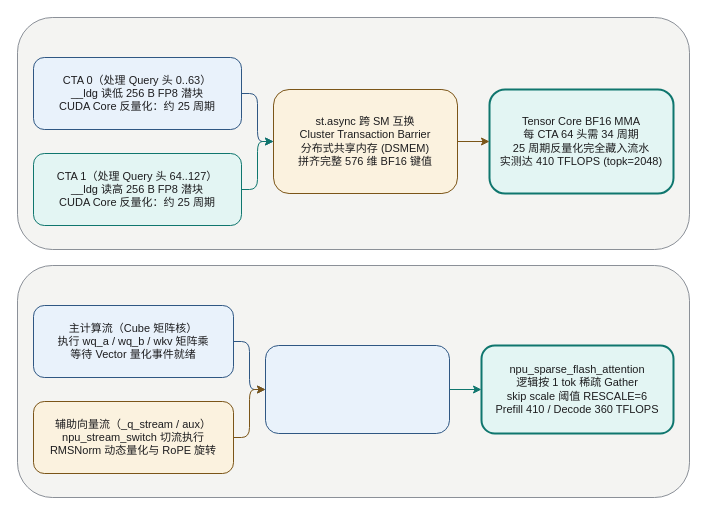
The diagram is 707 pixels wide and 515 high, and some of its shapes have lost their labels. The box of each missing label's shape, as (x1, y1, x2, y2) in pixels:
npu_lightning_indexer 物理分页按 128 对齐 Cube SFA/DSA 选出 Top-k 下标: (264, 344, 450, 434)
NVIDIA Hopper：2-CTA Cluster Crossover 打破 FP8 反量化瓶颈（250 → 410 TFLOPS）: (16, 16, 690, 250)
华为昇腾 NPU：CV 双流并行掩蔽、闪电索引异步与 skip scale 在线归约: (16, 264, 690, 498)
